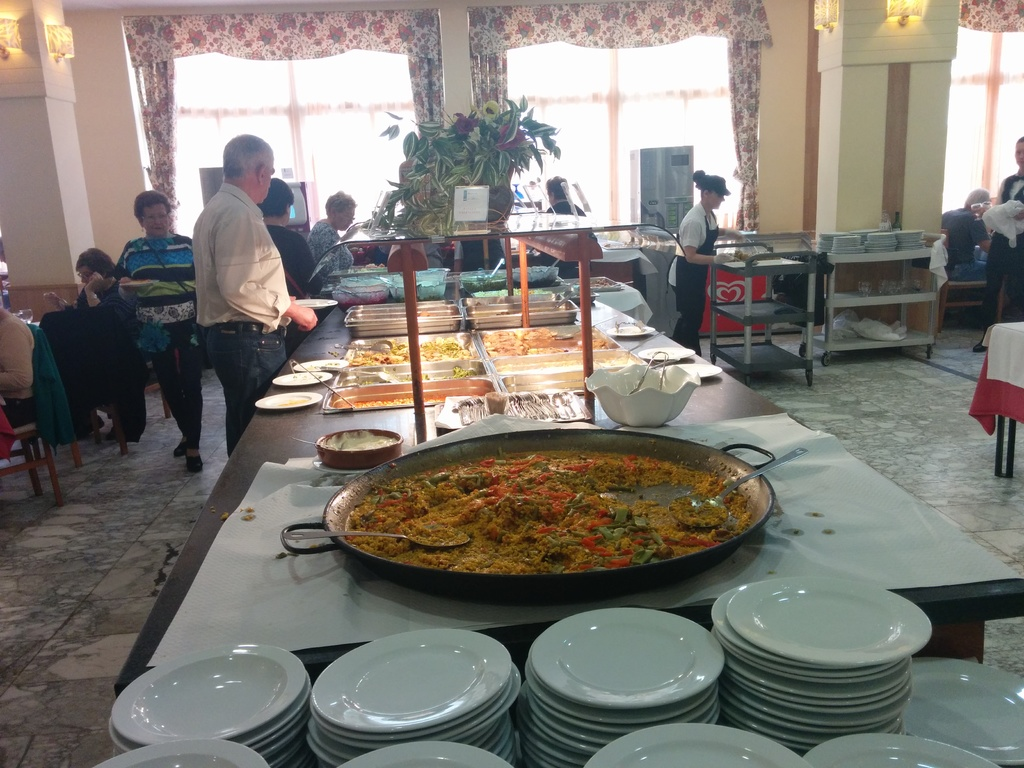plate: (308, 624, 512, 742), (723, 574, 933, 669), (530, 607, 725, 709)
